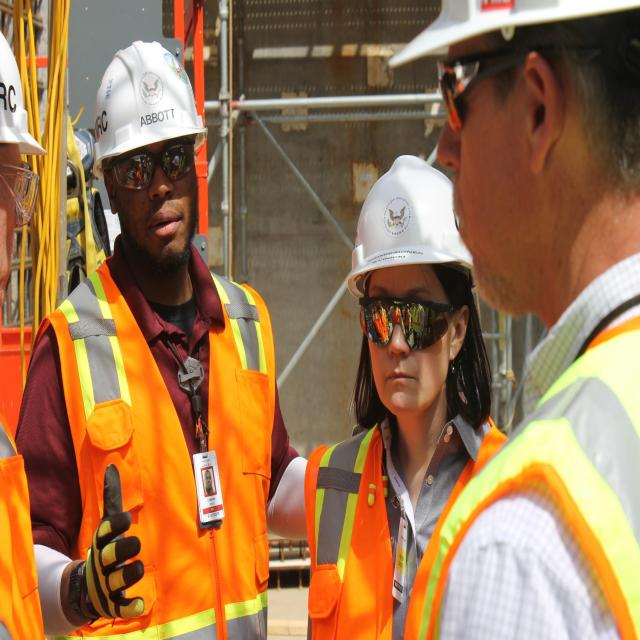Vest: (31, 254, 282, 636), (301, 391, 568, 637)
